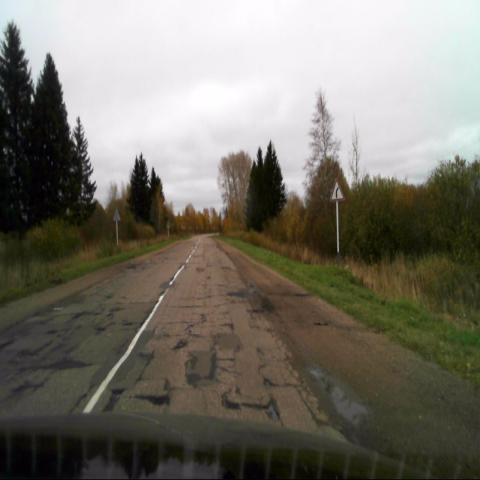1_11: (330, 177, 344, 201)
